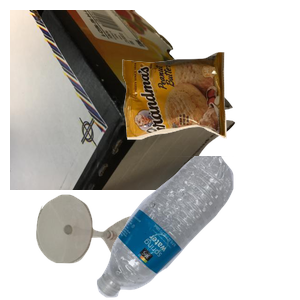cardboard: (10, 10, 238, 190)
glass: (34, 192, 187, 300)
plastic: (94, 156, 300, 300)
trash: (120, 50, 300, 182)
